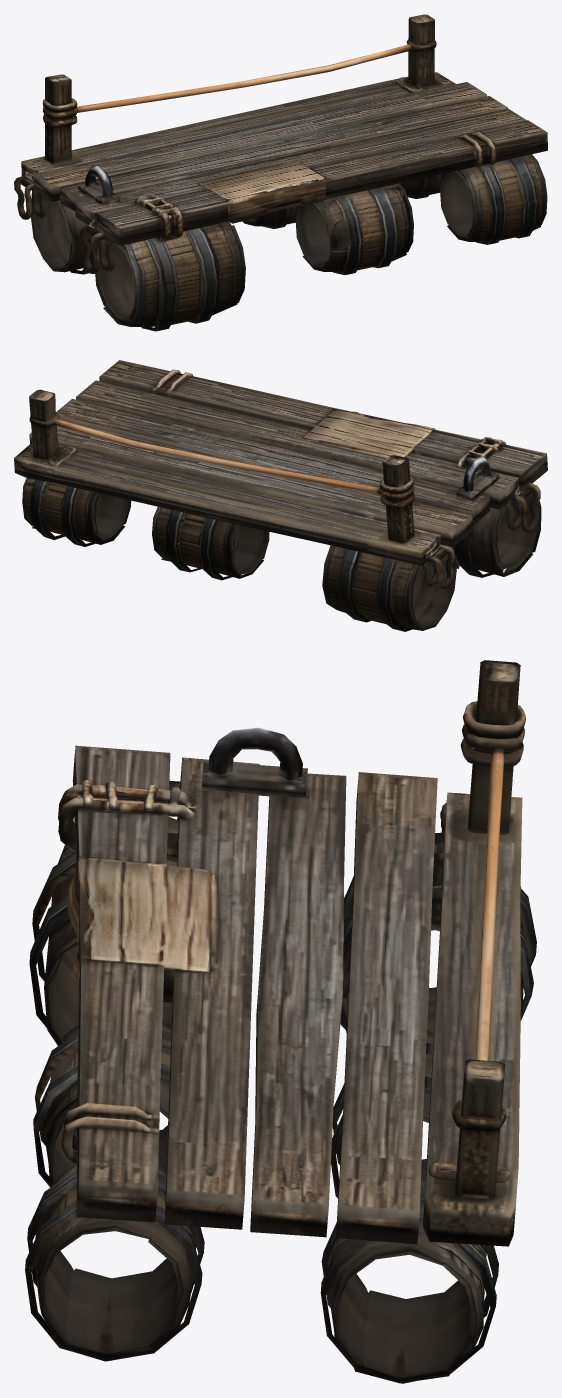
Rendered from act1_kit_v1_plank_raft.glb.
The picture shows the model from 3 angles, top to bottom: view 1: azimuth 30°, elevation 25°; view 2: azimuth 150°, elevation 25°; view 3: azimuth 270°, elevation 25°; orthographic projection. The views are drawn at different scales.
Visible parts, largest first — view 1: act1_kit_v1_plank_raft; view 2: act1_kit_v1_plank_raft; view 3: act1_kit_v1_plank_raft.
Part boxes in pixels (bbox=[...]): act1_kit_v1_plank_raft: bbox=[14, 14, 547, 331]; act1_kit_v1_plank_raft: bbox=[14, 360, 547, 631]; act1_kit_v1_plank_raft: bbox=[25, 660, 536, 1383].
Bounding box in the file's own units: 1 × 0.3899 × 0.5012.
1 material, 1 textured.
